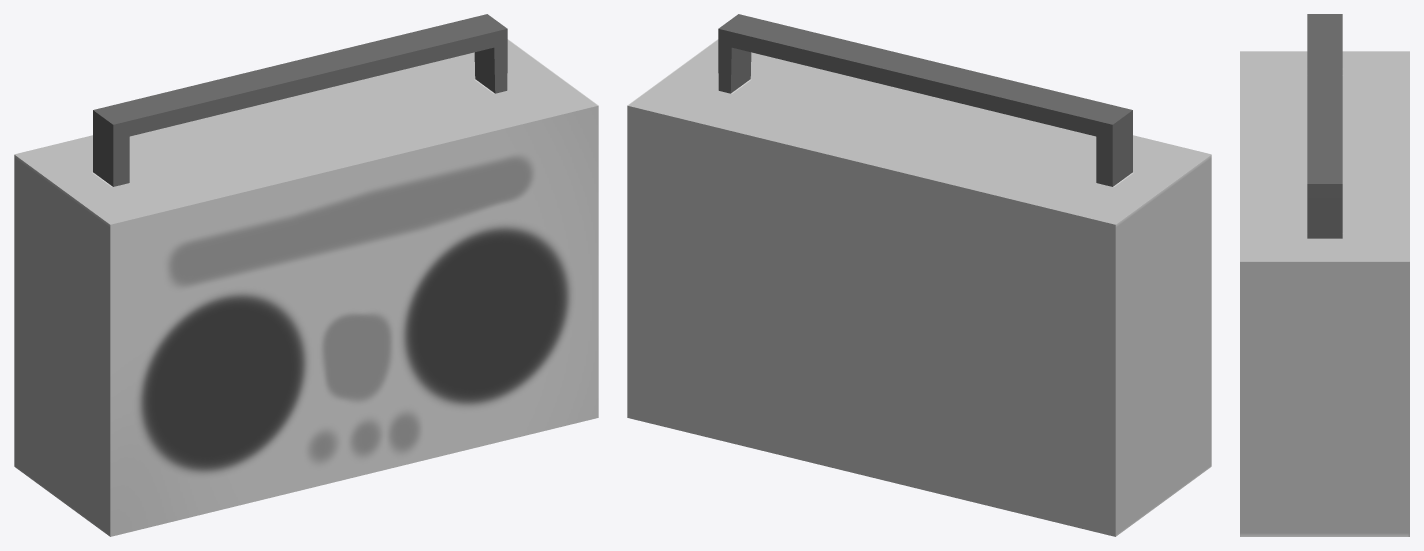
File: boombox.glb
The picture shows the model from 3 angles, left to right: view 1: azimuth 30°, elevation 25°; view 2: azimuth 150°, elevation 25°; view 3: azimuth 270°, elevation 25°; orthographic projection. The views are drawn at different scales.
Visible parts, largest first — view 1: boombox.001; view 2: boombox.001; view 3: boombox.001.
Part boxes in pixels (box(x1,y1,x2,y2)): boombox.001: box(14, 14, 598, 536); boombox.001: box(627, 14, 1211, 536); boombox.001: box(1240, 14, 1409, 536).
Size of the model in its own units: 1.83 by 1.34 by 0.6239.
1 material, 1 textured.
